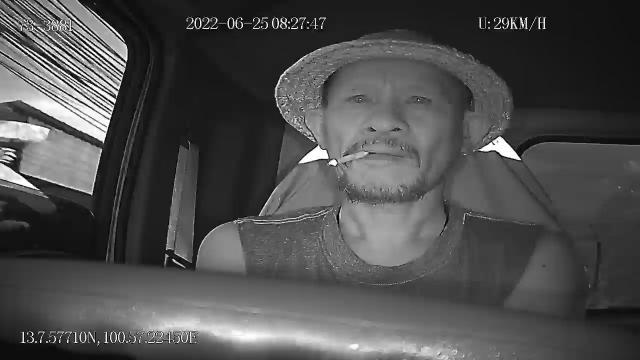SafeDriving: (400, 86, 438, 112), (341, 84, 377, 110)
Smoking: (328, 148, 370, 168)
